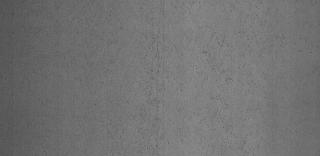silk spot: (186, 5, 310, 142), (86, 9, 180, 148)
